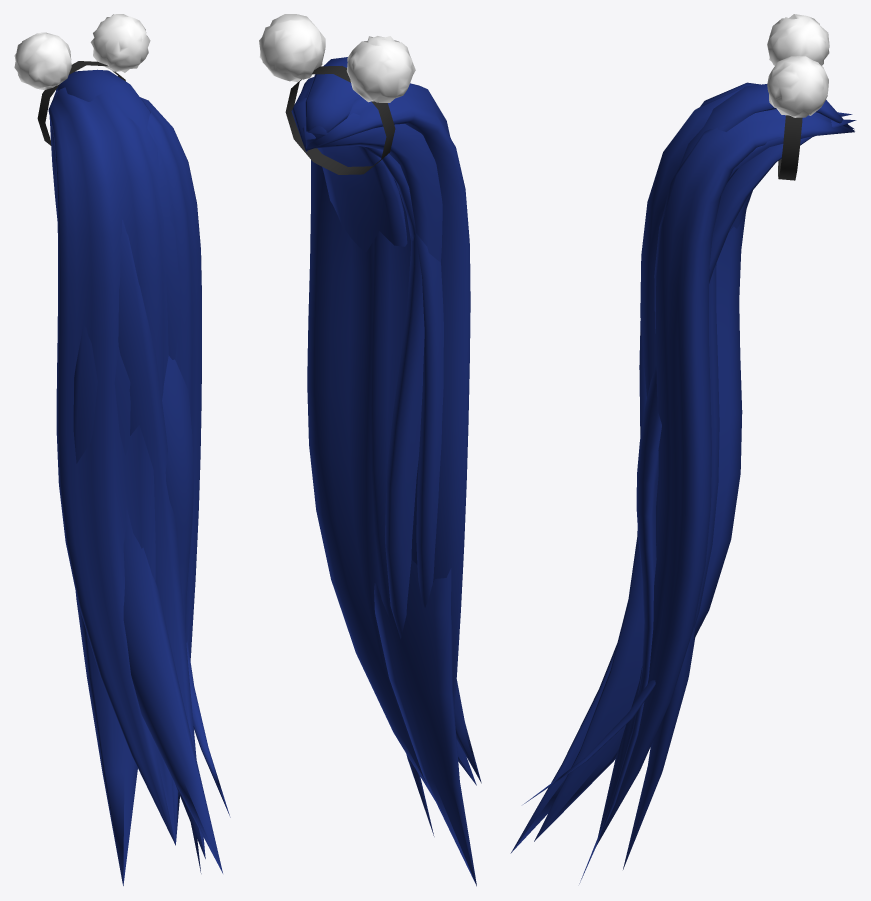
The model's file is doremy_ponytail.glb.
3 views of the same model, side by side, from view 1: azimuth 30°, elevation 25°; view 2: azimuth 150°, elevation 25°; view 3: azimuth 270°, elevation 25° (orthographic). The views are drawn at different scales.
Parts seen in each view (by area): view 1: doremy_ponytail; view 2: doremy_ponytail; view 3: doremy_ponytail.
Part boxes in pixels (x1=…): doremy_ponytail: x1=14, y1=14, x2=230, y2=885; doremy_ponytail: x1=259, y1=14, x2=481, y2=886; doremy_ponytail: x1=510, y1=14, x2=856, y2=883.
Size of the model in its own units: 0.5016 by 2.71 by 0.9954.
